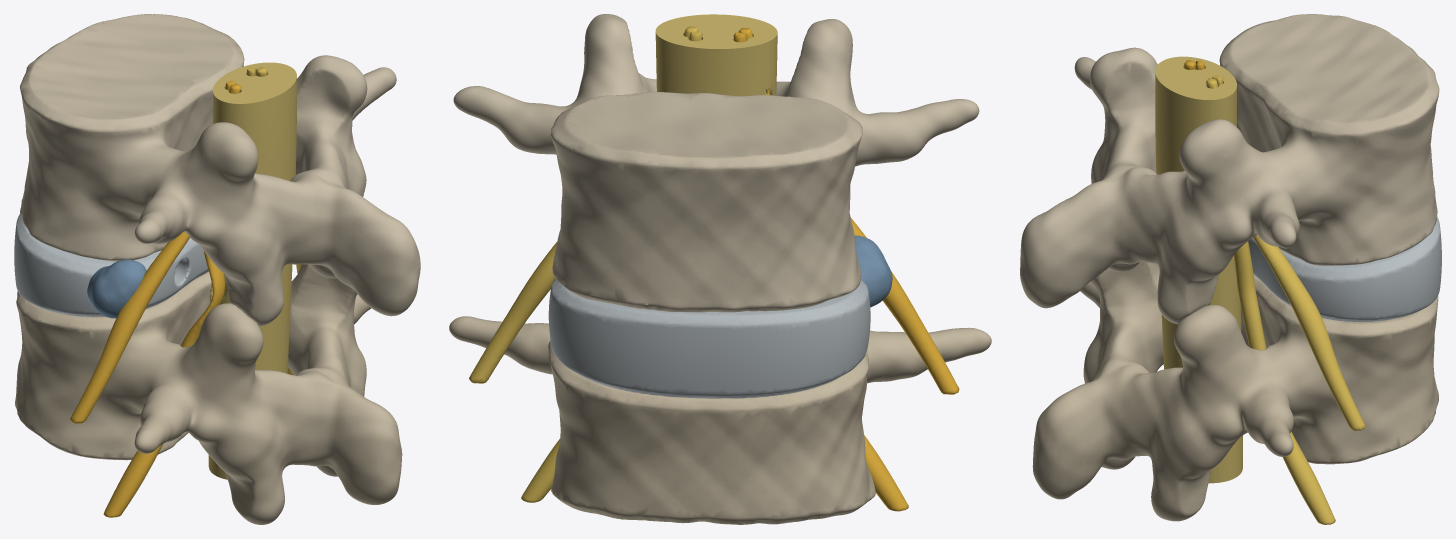
Rendered from spine_far_lateral.glb.
3 renders of one model, left to right at view 1: azimuth 30°, elevation 25°; view 2: azimuth 150°, elevation 25°; view 3: azimuth 270°, elevation 25°, orthographic. The views are drawn at different scales.
Parts seen in each view (by area): view 1: l4_vertebra, l5_vertebra, thecal_sac, annulus_fibrosus, l4_nerve_root_left, l5_nerve_root_left, disc_herniation; view 2: l4_vertebra, l5_vertebra, annulus_fibrosus, thecal_sac, nerve_roots, l4_nerve_root_left, disc_herniation, l5_nerve_root_left; view 3: l4_vertebra, l5_vertebra, annulus_fibrosus, thecal_sac, nerve_roots.
Part boxes in pixels (bbox=[...]): l4_vertebra: bbox=[20, 14, 420, 326]; l5_vertebra: bbox=[15, 264, 402, 524]; thecal_sac: bbox=[208, 62, 296, 479]; annulus_fibrosus: bbox=[14, 214, 208, 316]; l4_nerve_root_left: bbox=[70, 84, 241, 423]; l5_nerve_root_left: bbox=[103, 80, 236, 517]; disc_herniation: bbox=[87, 259, 146, 318]; l4_vertebra: bbox=[453, 14, 979, 312]; l5_vertebra: bbox=[449, 316, 991, 524]; annulus_fibrosus: bbox=[548, 278, 870, 398]; thecal_sac: bbox=[655, 14, 777, 96]; nerve_roots: bbox=[469, 26, 702, 502]; l4_nerve_root_left: bbox=[739, 28, 959, 394]; disc_herniation: bbox=[854, 235, 892, 307]; l5_nerve_root_left: bbox=[733, 32, 908, 511]; l4_vertebra: bbox=[1020, 14, 1439, 324]; l5_vertebra: bbox=[1032, 262, 1438, 521]; annulus_fibrosus: bbox=[1248, 216, 1441, 322]; thecal_sac: bbox=[1155, 56, 1242, 483]; nerve_roots: bbox=[1206, 75, 1365, 524].
Size of the model in its own units: 7.95 by 7.92 by 7.36.
